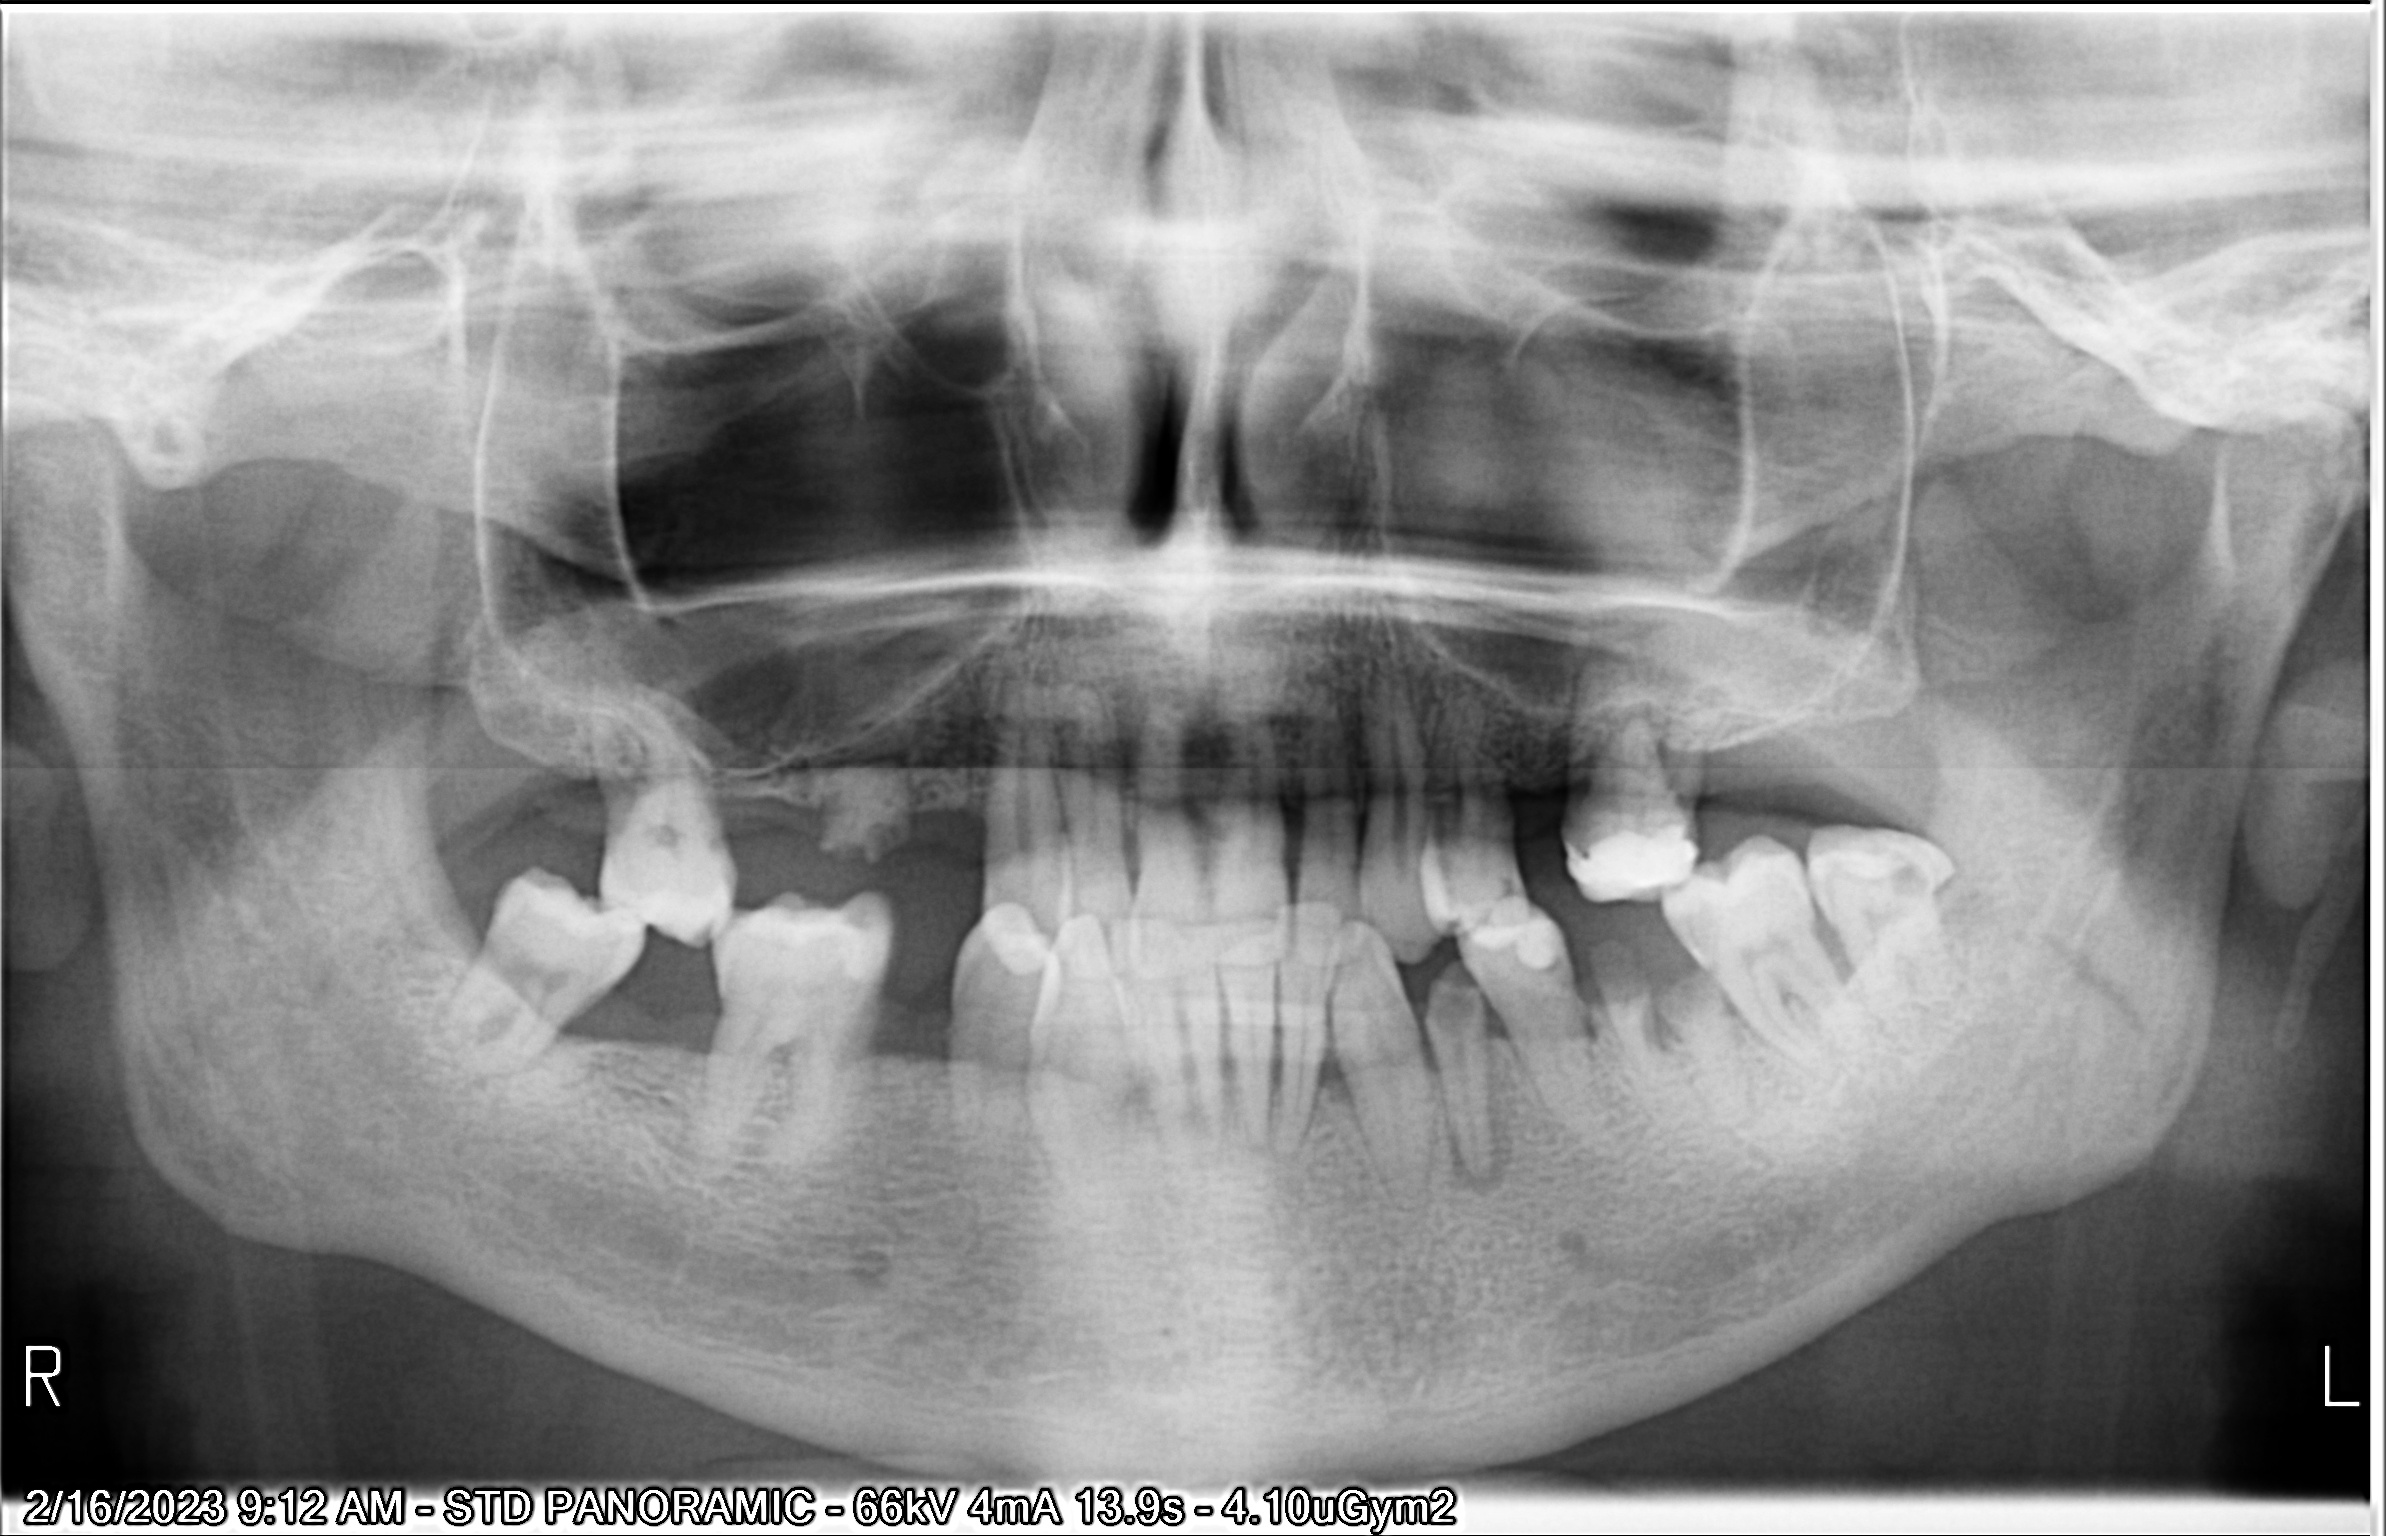API: (1433, 1119, 1523, 1200)
BON: (541, 971, 628, 1059), (1802, 912, 1876, 1004), (689, 778, 755, 877), (1294, 1032, 1365, 1122), (1256, 772, 1318, 875), (951, 793, 1021, 884), (666, 997, 743, 1073), (555, 755, 626, 835), (1676, 731, 1737, 821), (828, 1004, 892, 1085), (910, 1004, 972, 1084), (1546, 758, 1607, 828), (1483, 760, 1523, 847)
CAR: (1875, 844, 1955, 906)
OBT: (1563, 823, 1699, 908), (1471, 912, 1579, 985)
ROT: (814, 731, 927, 875), (1574, 943, 1664, 1099), (1671, 960, 1758, 1113)
